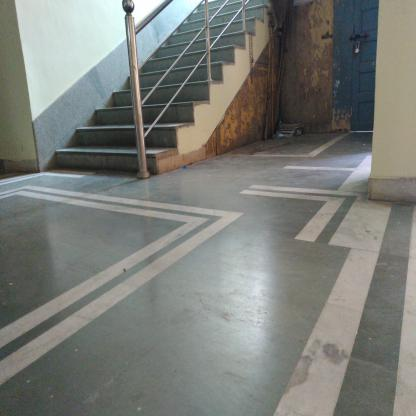stairs: (96, 106, 133, 179)
